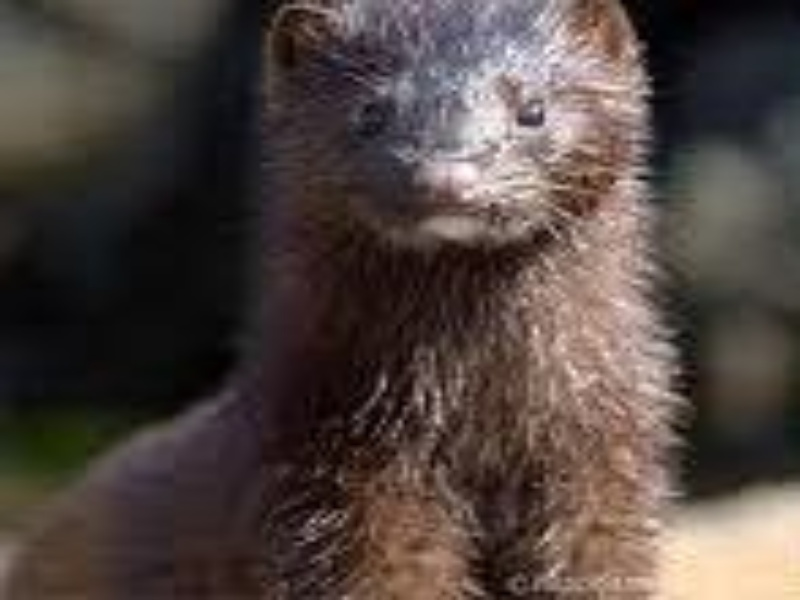minkish: (1, 3, 688, 598)
